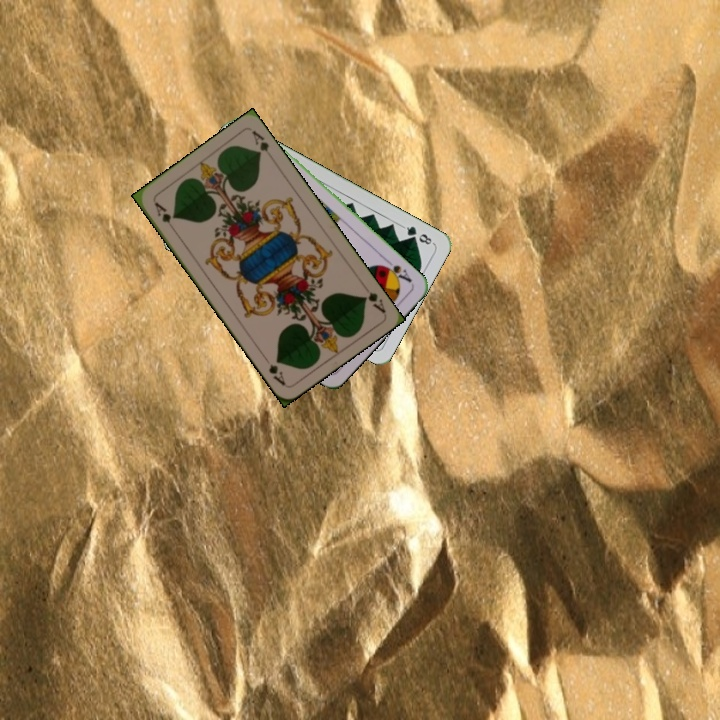G8: (399, 222, 436, 247)
GA: (150, 198, 178, 233), (359, 288, 388, 315)
SA: (377, 255, 415, 285)
